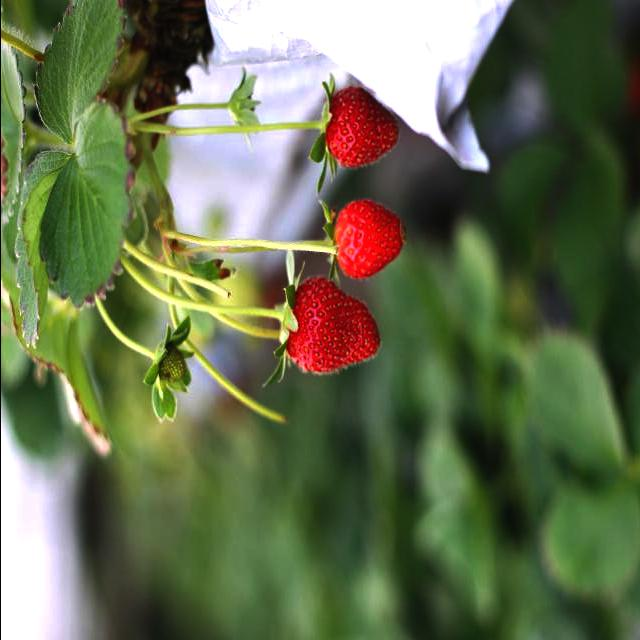ripe: (274, 272, 384, 388), (312, 82, 408, 174), (324, 196, 412, 290)
